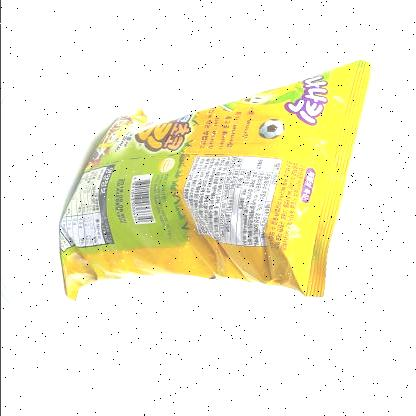Others: (50, 51, 378, 309)
